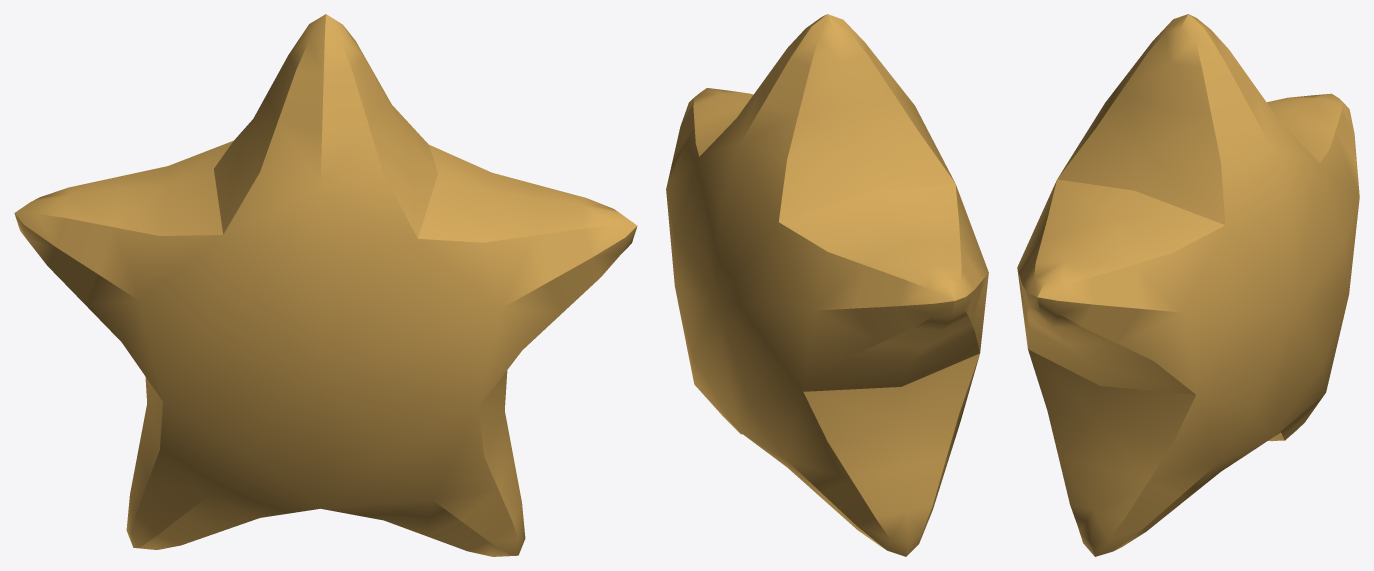
Rendered from Star_001.fbx.
3 renders of one model, left to right at view 1: azimuth 30°, elevation 25°; view 2: azimuth 150°, elevation 25°; view 3: azimuth 270°, elevation 25°, orthographic. The views are drawn at different scales.
Parts seen in each view (by area): view 1: Star.001; view 2: Star.001; view 3: Star.001.
Boxes of the visible parts, bbox=[...] form: Star.001: bbox=[14, 14, 637, 556]; Star.001: bbox=[666, 14, 988, 556]; Star.001: bbox=[1017, 14, 1359, 556].
Size of the model in its own units: 128 by 144 by 92.6.
